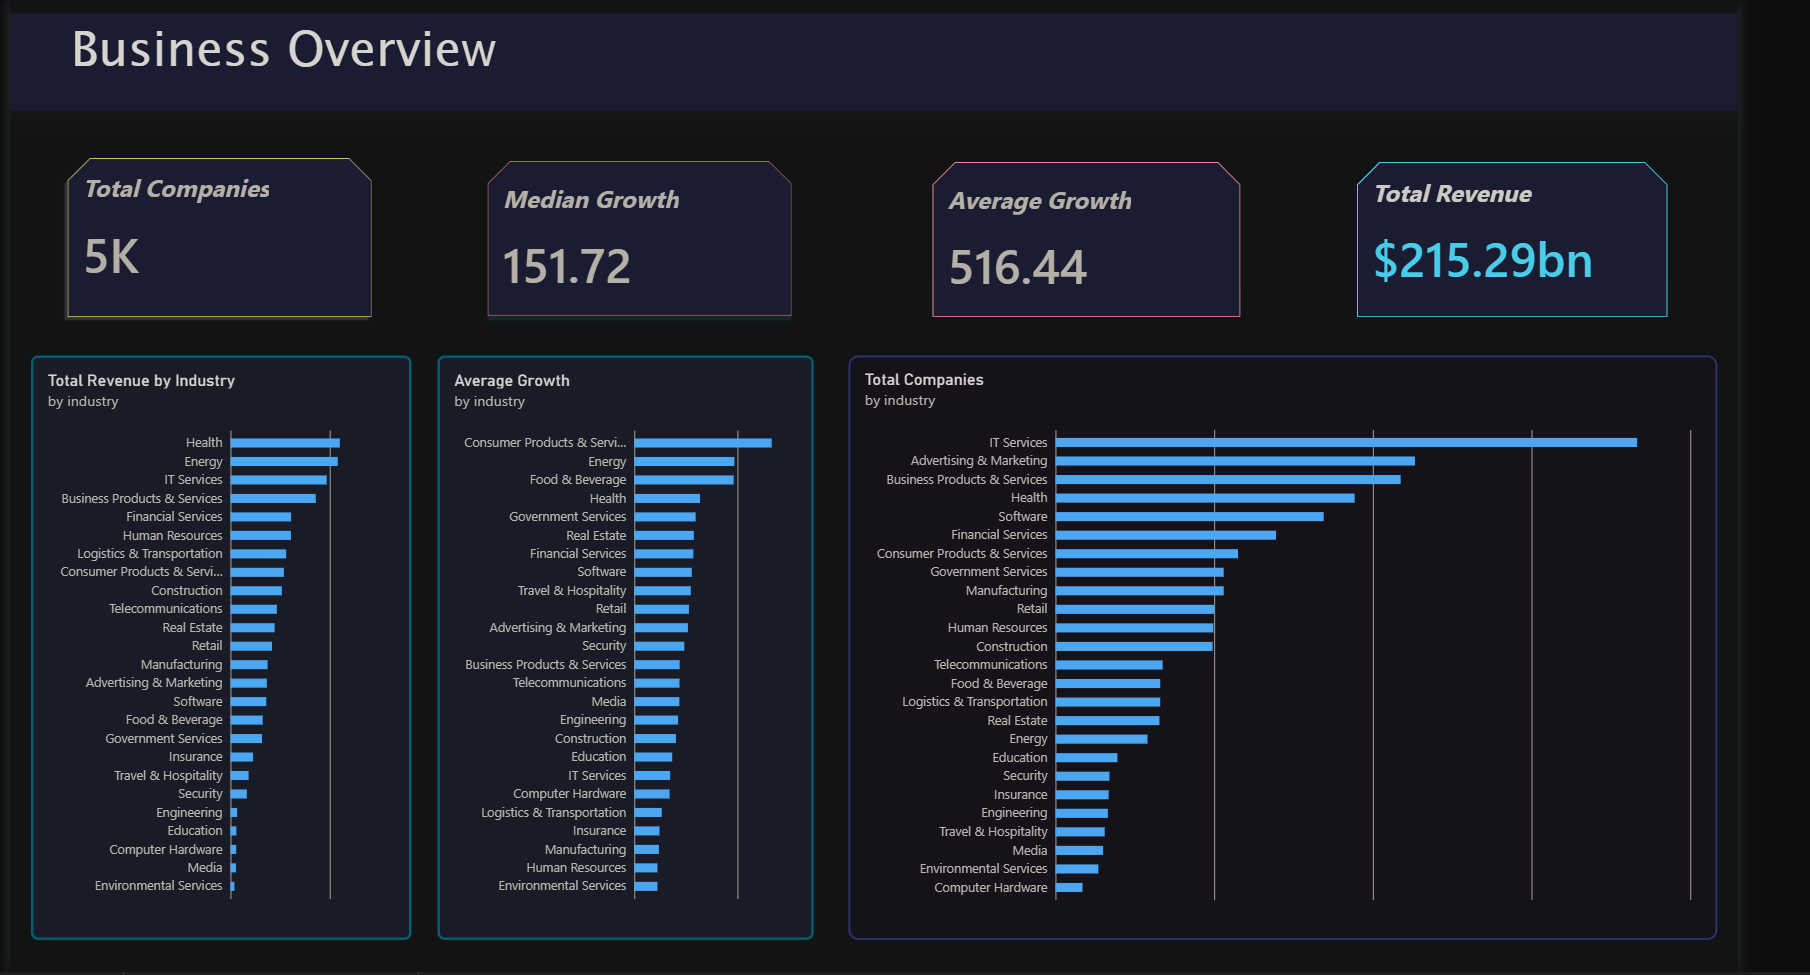

This screenshot's page, from the dashboard's own definition file:
{"tool":"powerbi","page":{"name":"Business Overview","canvas":[1920,1080],"ordinal":0},"visuals":[{"type":"textbox","box":[0,15.4,1919.4,107.9],"z":500},{"type":"cardVisual","fields":{"Data":["inc5000_2014_clean.Total Companies"]},"box":[59.1,170.3,349.8,188.5],"z":501},{"type":"cardVisual","fields":{"Data":["inc5000_2014_clean.Median Growth"]},"box":[524.7,172.6,349.8,184],"z":502},{"type":"cardVisual","fields":{"Data":["inc5000_2014_clean.vAverage Growth"]},"box":[1024.4,179.4,343,172.6],"z":503},{"type":"cardVisual","fields":{"Data":["inc5000_2014_clean.Total Revenue"]},"box":[1496.8,179.4,345.2,172.6],"z":504},{"type":"clusteredBarChart","fields":{"Category":["inc5000_2014_clean.industry"],"Y":["inc5000_2014_clean.Total Companies"]},"box":[931.2,395.2,965.3,649.6],"z":505},{"type":"clusteredBarChart","fields":{"Category":["inc5000_2014_clean.industry"],"Y":["Sum(inc5000_2014_clean.revenue)"]},"box":[22.7,395.2,422.5,649.6],"z":506},{"type":"clusteredBarChart","fields":{"Category":["inc5000_2014_clean.industry"],"Y":["inc5000_2014_clean.Average Growth"]},"box":[474.7,395.2,417.9,649.6],"z":507}]}

Visuals, with their boxes on the page's 1920x1080 design canvas (x1, y1, x2, y2). These are canvas units, not pixel positions in the 1810x975 screenshot, which may show the page scaled, cropped or inside an application window:
textbox: left=0, top=15, right=1919, bottom=123
cardVisual - inc5000_2014_clean.Total Companies: left=59, top=170, right=409, bottom=359
cardVisual - inc5000_2014_clean.Median Growth: left=525, top=173, right=874, bottom=357
cardVisual - inc5000_2014_clean.vAverage Growth: left=1024, top=179, right=1367, bottom=352
cardVisual - inc5000_2014_clean.Total Revenue: left=1497, top=179, right=1842, bottom=352
clusteredBarChart - inc5000_2014_clean.industry x inc5000_2014_clean.Total Companies: left=931, top=395, right=1896, bottom=1045
clusteredBarChart - inc5000_2014_clean.industry x Sum(inc5000_2014_clean.revenue): left=23, top=395, right=445, bottom=1045
clusteredBarChart - inc5000_2014_clean.industry x inc5000_2014_clean.Average Growth: left=475, top=395, right=893, bottom=1045
